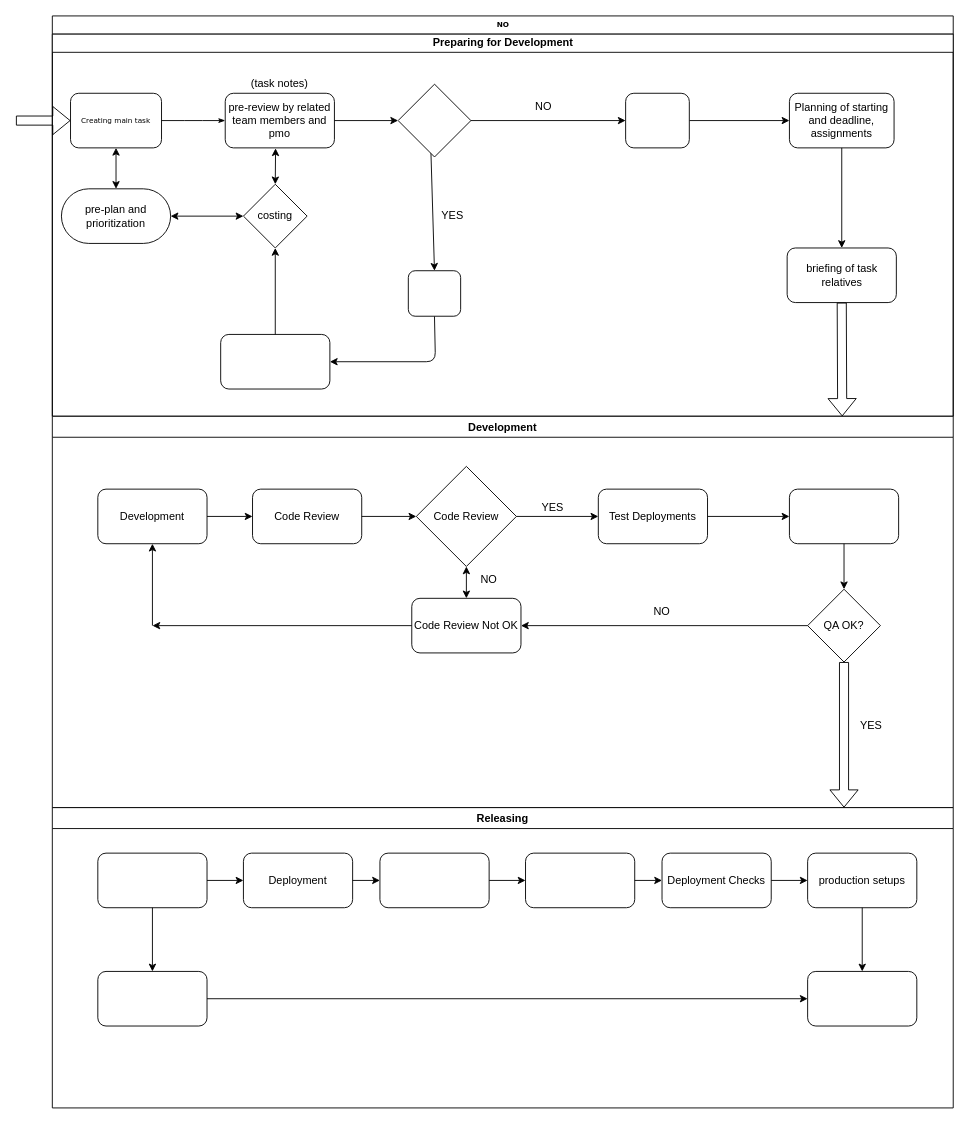
Some shapes in this 969 by 1124 pixel diagram are drawn without their labels. Each missing label, with the centre of its shape:
analysis: pixel 275 361
Create PO Task: pixel 434 293
Create Sub Tasks: pixel 657 120
documenting of relase notes: pixel 152 998
is need po: pixel 434 120
Pre-review of relase package: pixel 152 880
Preparing Package / merges: pixel 434 880
publishing release notes: pixel 862 998
Smoke: pixel 580 880
Testing: pixel 844 516
